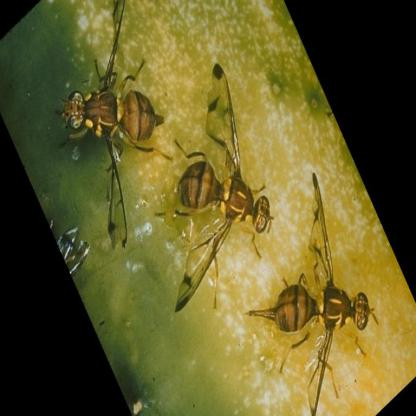fruit fly: (247, 175, 371, 410), (64, 2, 166, 247), (176, 65, 272, 313)
